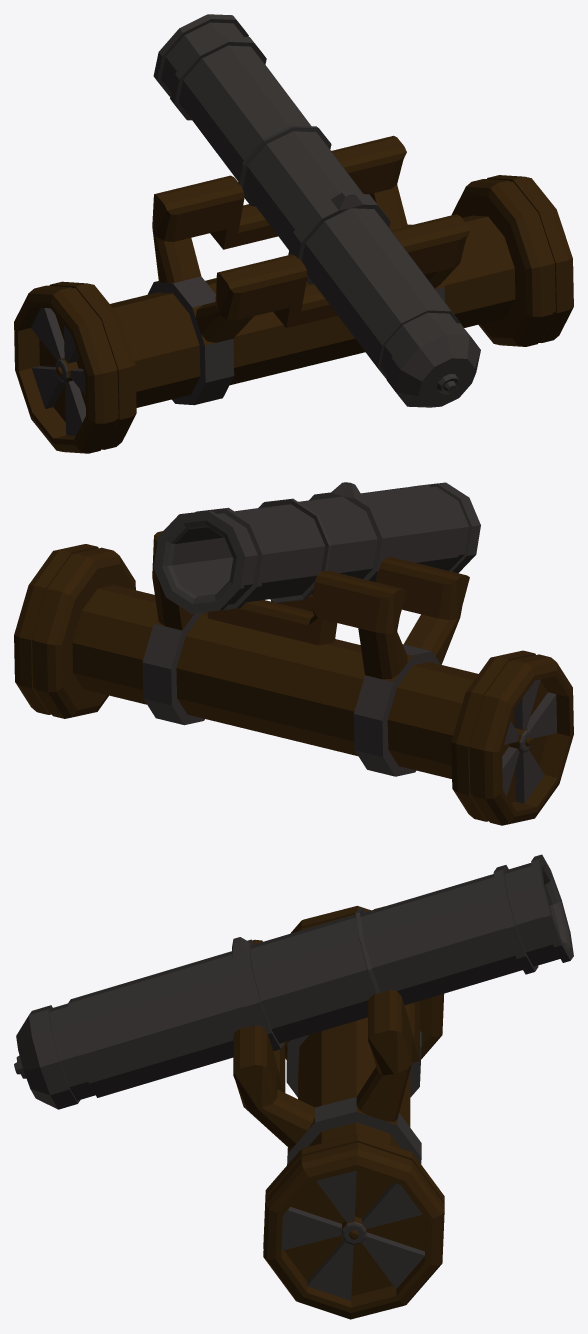
File: Canon.glb
3 renders of one model, top to bottom at view 1: azimuth 30°, elevation 25°; view 2: azimuth 150°, elevation 25°; view 3: azimuth 270°, elevation 25°, orthographic. The views are drawn at different scales.
Visible parts, largest first — view 1: Canon; view 2: Canon; view 3: Canon.
Part boxes in pixels (x1=…): Canon: x1=14, y1=14, x2=573, y2=453; Canon: x1=14, y1=482, x2=573, y2=825; Canon: x1=14, y1=854, x2=573, y2=1319.
Bounding box in the file's own units: 1.31 × 0.8194 × 1.23.
